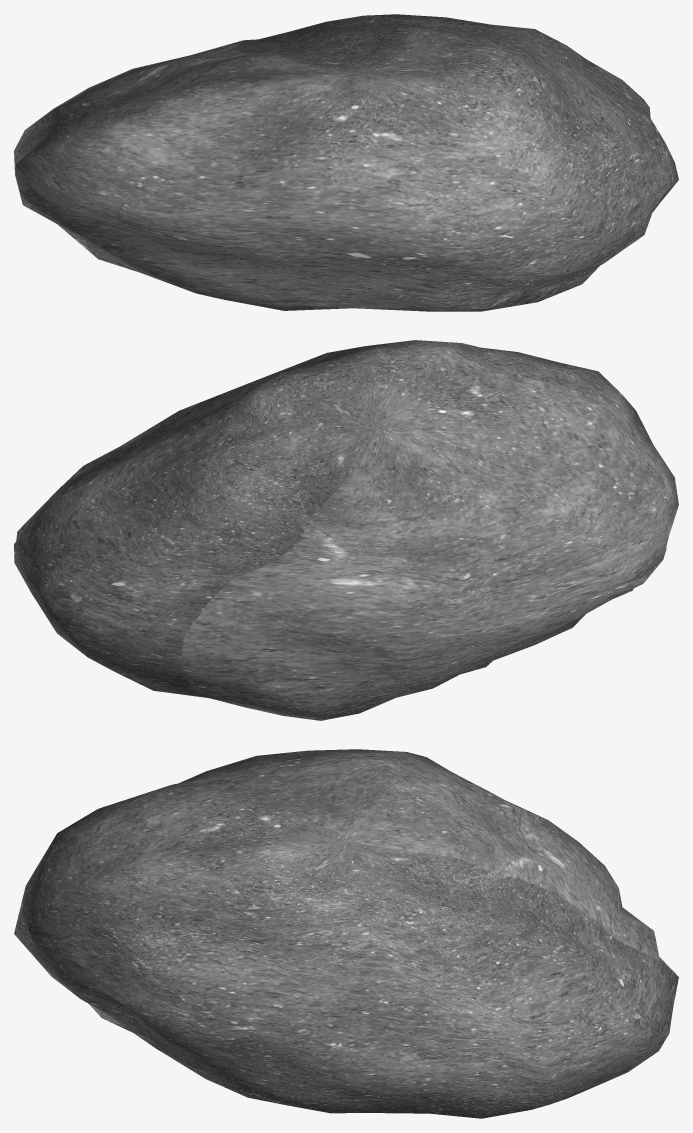
File: rock.obj
3 renders of one model, top to bottom at view 1: azimuth 30°, elevation 25°; view 2: azimuth 150°, elevation 25°; view 3: azimuth 270°, elevation 25°, orthographic. The views are drawn at different scales.
Parts seen in each view (by area): view 1: Rock; view 2: Rock; view 3: Rock.
Boxes of the visible parts, x1,y1,x2,y2 form: Rock: (14, 14, 678, 311); Rock: (14, 340, 678, 720); Rock: (14, 749, 678, 1118).
Bounding box in the file's own units: 76.29 × 27.17 × 76.29.
